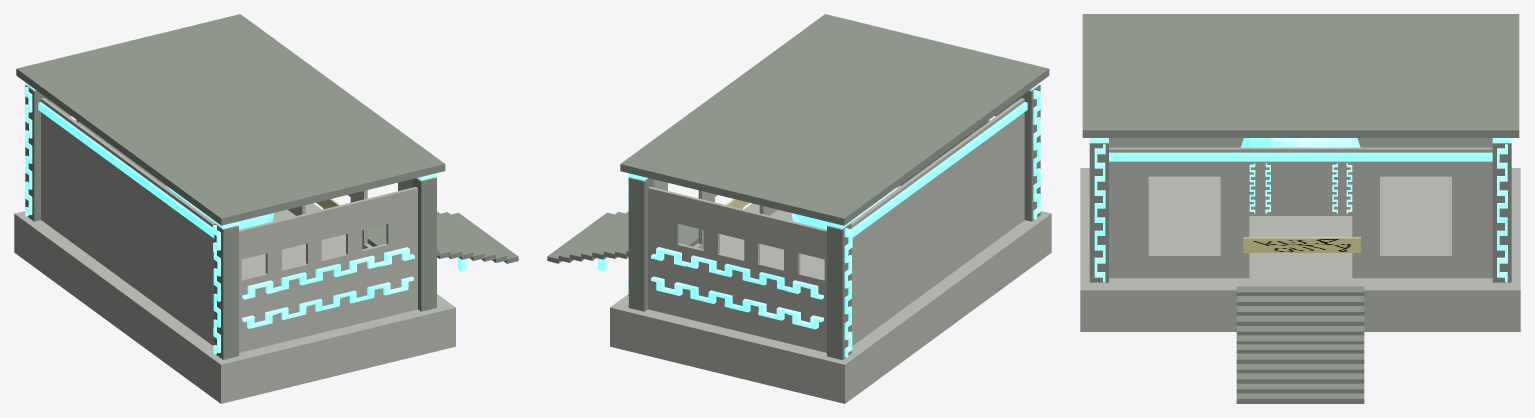
The model's file is space house 5.fbx.
3 views of the same model, side by side, from view 1: azimuth 30°, elevation 25°; view 2: azimuth 150°, elevation 25°; view 3: azimuth 270°, elevation 25° (orthographic). The views are drawn at different scales.
Visible parts, largest first — view 1: Cube.083, Cube.074, Cube.077, Cube.075, Cube.094, Cube.066, Cube.079, Cube.082, Cube.088, Cube.081, Cube.061, Cube.062 (+1 smaller); view 2: Cube.083, Cube.074, Cube.077, Cube.076, Cube.091, Cube.066, Cube.081, Cube.080, Cube.088, Cube.079, Cube.061, Cube.062 (+1 smaller); view 3: Cube.083, Cube.074, Cube.078, Cube.066, Cube.077, Cube.089, Cube.082, Cube.080, Cube.071, Icosphere, Cube.063, Cube.068 (+1 smaller).
Boxes of the visible parts, bbox=[...] form: Cube.083: bbox=[16, 14, 445, 225]; Cube.074: bbox=[14, 186, 455, 403]; Cube.077: bbox=[41, 98, 214, 345]; Cube.075: bbox=[239, 187, 417, 352]; Cube.094: bbox=[242, 247, 414, 328]; Cube.066: bbox=[323, 208, 518, 263]; Cube.079: bbox=[214, 223, 238, 359]; Cube.082: bbox=[412, 177, 436, 311]; Cube.088: bbox=[38, 102, 214, 238]; Cube.081: bbox=[25, 85, 49, 221]; Cube.061: bbox=[24, 87, 32, 216]; Cube.062: bbox=[213, 225, 220, 354]; Cube.083: bbox=[620, 14, 1049, 225]; Cube.074: bbox=[610, 185, 1051, 403]; Cube.077: bbox=[851, 98, 1024, 345]; Cube.076: bbox=[648, 186, 826, 352]; Cube.091: bbox=[651, 247, 823, 329]; Cube.066: bbox=[547, 208, 742, 263]; Cube.081: bbox=[827, 223, 851, 359]; Cube.080: bbox=[628, 177, 653, 311]; Cube.088: bbox=[852, 102, 1027, 237]; Cube.079: bbox=[1016, 85, 1040, 221]; Cube.061: bbox=[844, 228, 852, 357]; Cube.062: bbox=[1033, 90, 1040, 219]; Cube.083: bbox=[1082, 14, 1519, 137]; Cube.074: bbox=[1080, 168, 1520, 331]; Cube.078: bbox=[1109, 147, 1492, 278]; Cube.066: bbox=[1236, 286, 1364, 403]; Cube.077: bbox=[1109, 138, 1492, 176]; Cube.089: bbox=[1109, 152, 1492, 161]; Cube.082: bbox=[1089, 143, 1108, 282]; Cube.080: bbox=[1492, 143, 1511, 282]; Cube.071: bbox=[1243, 237, 1360, 252]; Icosphere: bbox=[1240, 138, 1360, 147]; Cube.063: bbox=[1094, 144, 1105, 282]; Cube.068: bbox=[1497, 144, 1507, 282].
Bounding box in the file's own units: 3589 × 1716 × 3463.
